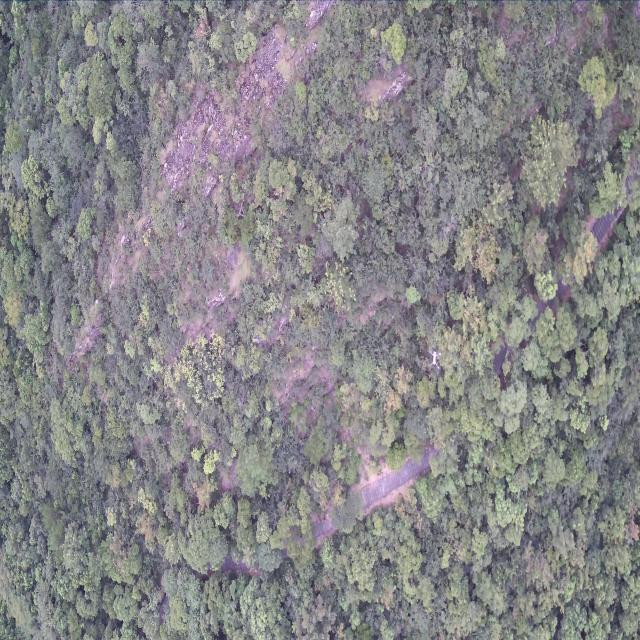drone: (429, 350, 441, 369)
